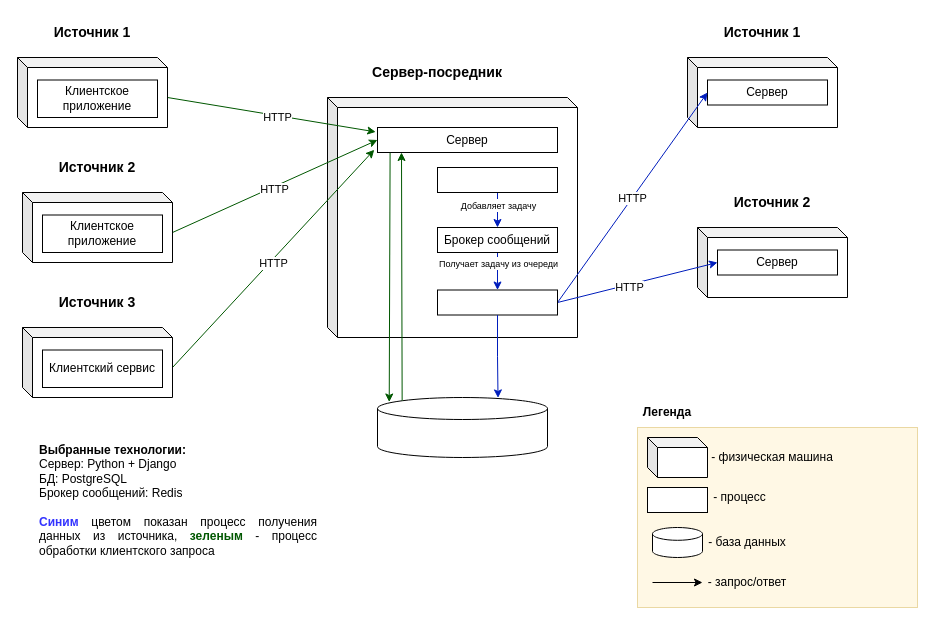
Some shapes in this 935 by 625 pixel diagram are drawn without their labels. The shapes that lost their labels are listed below. From the top down, each one's box as (x1, y1, x2, y2) in pixels, then its label:
(436, 166, 558, 192): Celery beat
(436, 289, 558, 315): Celery
(376, 396, 548, 458): БД
